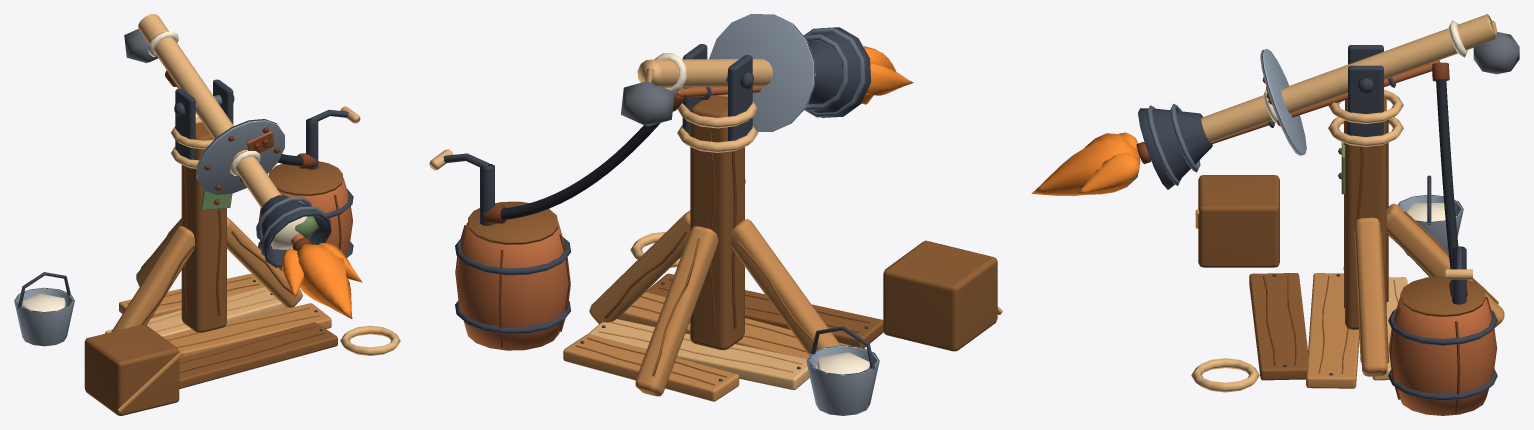
The model's file is FlamethrowerTurret_T1.fbx.
3 renders of one model, left to right at view 1: azimuth 30°, elevation 25°; view 2: azimuth 150°, elevation 25°; view 3: azimuth 270°, elevation 25°, orthographic. The views are drawn at different scales.
Parts seen in each view (by area): view 1: FlamethrowerTurretT1Stand, FlamethrowerTurretT1Junk, FlamethrowerTurretT1Planks, FlamethrowerTurretT1Torch, FlamethrowerTurretT1Barrel, FlamethrowerTurretT1FlameGlow, FlamethrowerTurretT1Head; view 2: FlamethrowerTurretT1Stand, FlamethrowerTurretT1Barrel, FlamethrowerTurretT1Junk, FlamethrowerTurretT1Planks, FlamethrowerTurretT1Torch, FlamethrowerTurretT1Head, FlamethrowerTurretT1FlameGlow; view 3: FlamethrowerTurretT1Stand, FlamethrowerTurretT1Barrel, FlamethrowerTurretT1Planks, FlamethrowerTurretT1Torch, FlamethrowerTurretT1Junk, FlamethrowerTurretT1FlameGlow, FlamethrowerTurretT1Head.
Part boxes in pixels (bbox=[...]): FlamethrowerTurretT1Stand: bbox=[111, 79, 302, 332]; FlamethrowerTurretT1Junk: bbox=[14, 272, 400, 415]; FlamethrowerTurretT1Planks: bbox=[105, 274, 337, 388]; FlamethrowerTurretT1Torch: bbox=[124, 14, 284, 208]; FlamethrowerTurretT1Barrel: bbox=[165, 70, 360, 270]; FlamethrowerTurretT1FlameGlow: bbox=[282, 243, 362, 318]; FlamethrowerTurretT1Head: bbox=[256, 195, 331, 267]; FlamethrowerTurretT1Stand: bbox=[589, 44, 840, 396]; FlamethrowerTurretT1Barrel: bbox=[429, 87, 761, 350]; FlamethrowerTurretT1Junk: bbox=[630, 231, 1002, 415]; FlamethrowerTurretT1Planks: bbox=[563, 273, 883, 401]; FlamethrowerTurretT1Torch: bbox=[621, 14, 815, 131]; FlamethrowerTurretT1Head: bbox=[803, 27, 870, 117]; FlamethrowerTurretT1FlameGlow: bbox=[861, 46, 913, 104]; FlamethrowerTurretT1Stand: bbox=[1328, 45, 1504, 376]; FlamethrowerTurretT1Barrel: bbox=[1211, 60, 1497, 415]; FlamethrowerTurretT1Planks: bbox=[1249, 273, 1407, 388]; FlamethrowerTurretT1Torch: bbox=[1201, 14, 1519, 155]; FlamethrowerTurretT1Junk: bbox=[1191, 175, 1463, 392]; FlamethrowerTurretT1FlameGlow: bbox=[1031, 132, 1140, 196]; FlamethrowerTurretT1Head: bbox=[1136, 103, 1212, 189].
Bounding box in the file's own units: 230 × 175 × 244.
